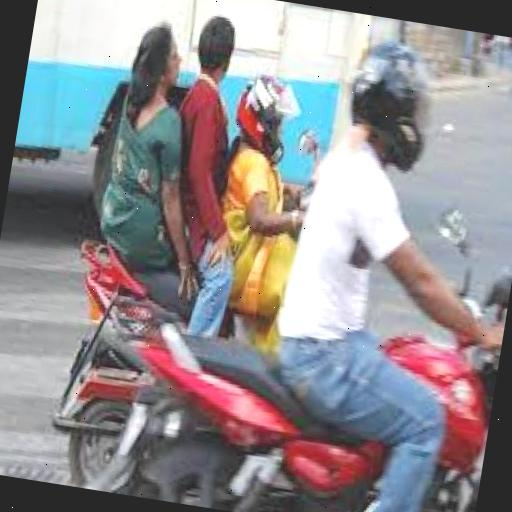helmet: (336, 48, 443, 196), (234, 66, 307, 173)
triple riding: (65, 0, 328, 343)
